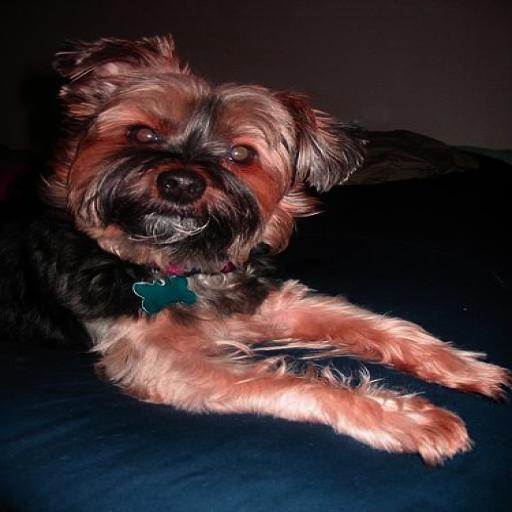dog_face: (55, 41, 356, 269)
